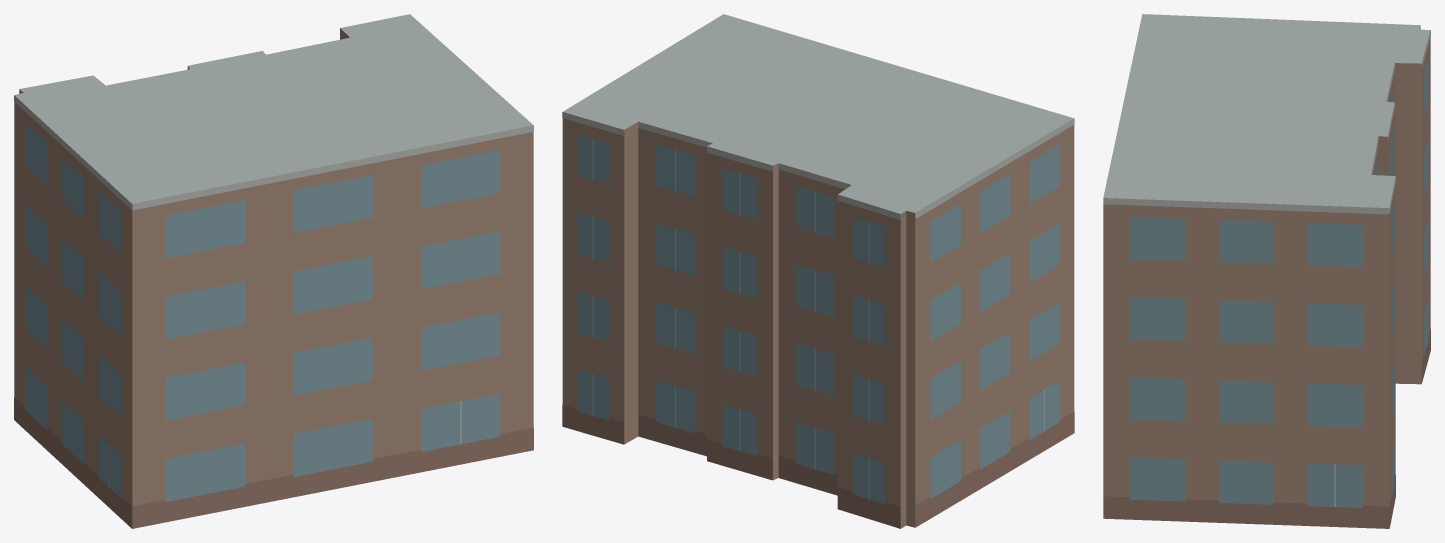
File: survey-upis-32750017.glb
The picture shows the model from 3 angles, left to right: view 1: azimuth 30°, elevation 25°; view 2: azimuth 150°, elevation 25°; view 3: azimuth 270°, elevation 25°; orthographic projection. The views are drawn at different scales.
Visible parts, largest first — view 1: survey-upis-32750017.tmp; view 2: survey-upis-32750017.tmp; view 3: survey-upis-32750017.tmp.
Boxes of the visible parts, box(x1,y1,x2,y2) form: survey-upis-32750017.tmp: box(14, 14, 533, 528); survey-upis-32750017.tmp: box(562, 14, 1074, 528); survey-upis-32750017.tmp: box(1103, 14, 1430, 528).
Bounding box in the file's own units: 16.11 × 12.4 × 11.49.
